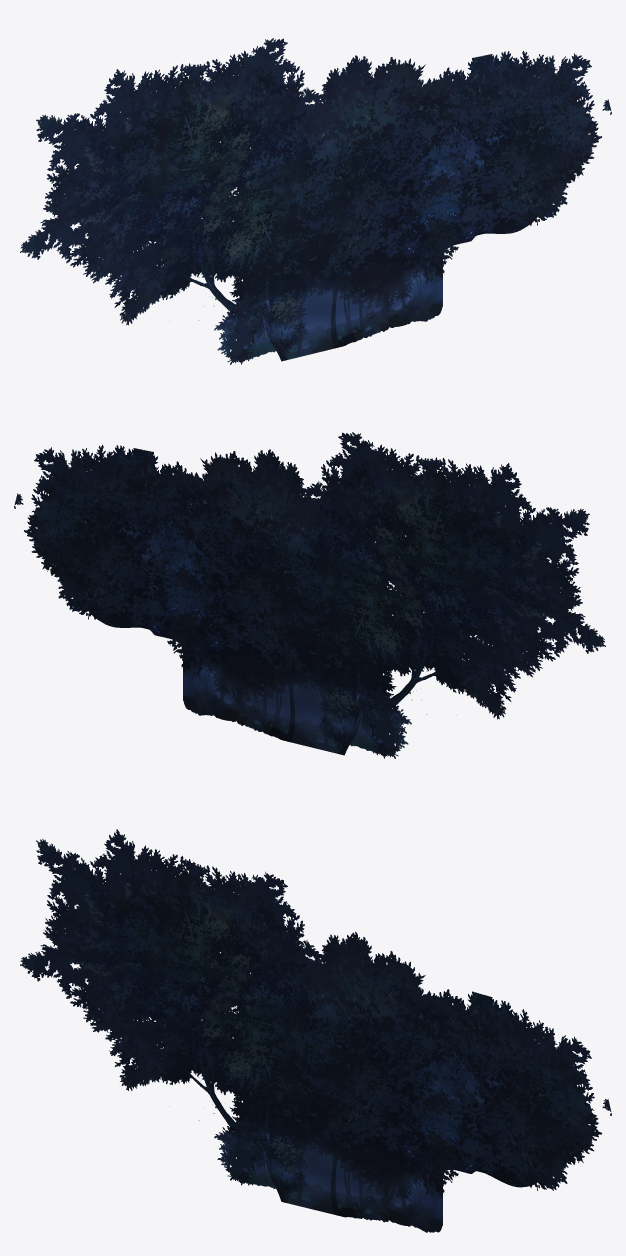
File: HuBian_NightTree05_FBX.FBX
The picture shows the model from 3 angles, top to bottom: view 1: azimuth 30°, elevation 25°; view 2: azimuth 150°, elevation 25°; view 3: azimuth 330°, elevation 25°; orthographic projection.
Visible parts, largest first — view 1: HuBian_NightTree05_FBX; view 2: HuBian_NightTree05_FBX; view 3: HuBian_NightTree05_FBX.
Boxes of the visible parts, x1=… form: HuBian_NightTree05_FBX: x1=20, y1=38, x2=611, y2=364; HuBian_NightTree05_FBX: x1=14, y1=432, x2=605, y2=758; HuBian_NightTree05_FBX: x1=20, y1=829, x2=611, y2=1232.
Size of the model in its own units: 58.66 by 31.48 by 1.38e-06.
